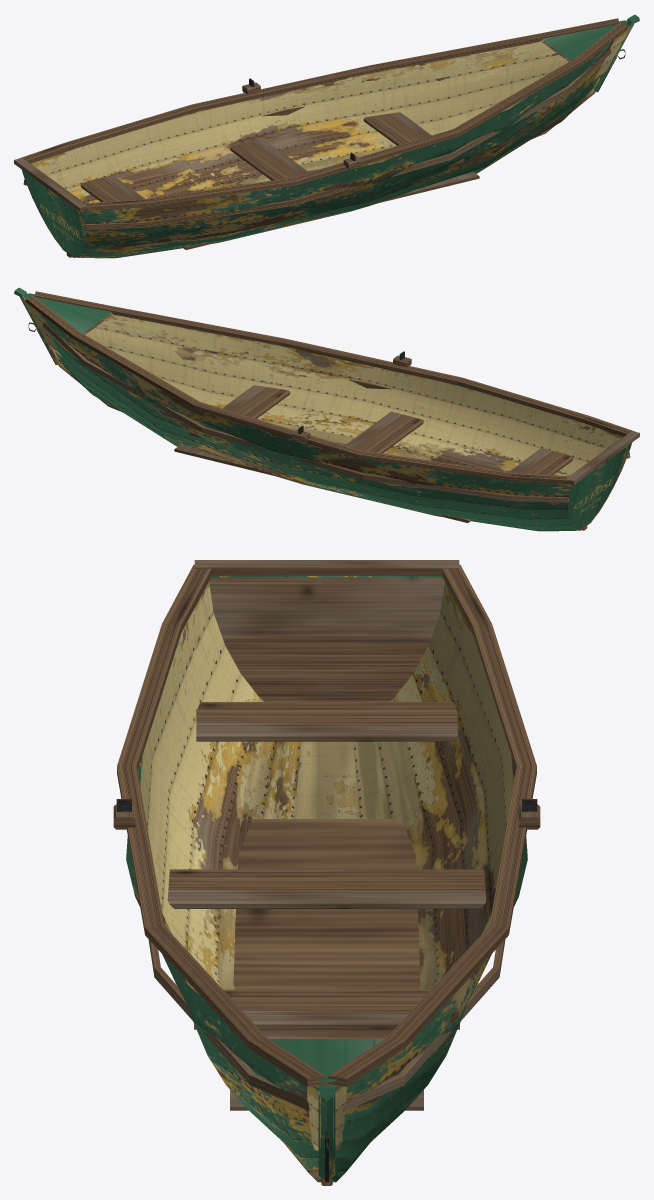
File: lakeboat_LOD0.dae
The picture shows the model from 3 angles, top to bottom: view 1: azimuth 30°, elevation 25°; view 2: azimuth 150°, elevation 25°; view 3: azimuth 270°, elevation 25°; orthographic projection. The views are drawn at different scales.
Visible parts, largest first — view 1: lakeboat; view 2: lakeboat; view 3: lakeboat.
Part boxes in pixels (x1,y1,x2,y2): lakeboat: (14, 14, 639, 258); lakeboat: (14, 287, 639, 531); lakeboat: (113, 560, 540, 1185).
Bounding box in the file's own units: 4.44 × 1.39 × 0.8313.
